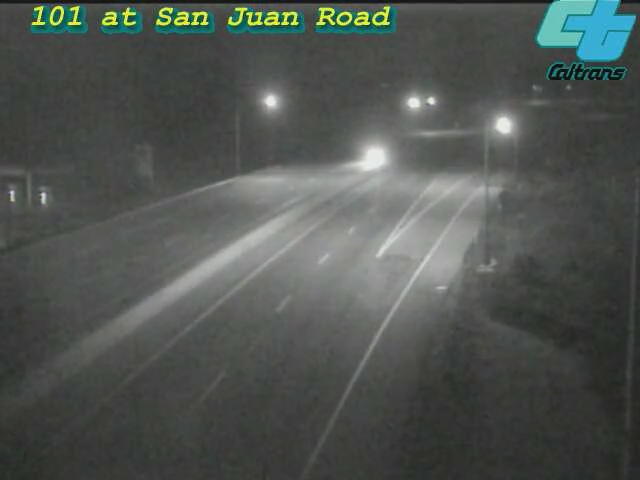vehicle: (351, 132, 401, 182), (480, 100, 530, 150)
